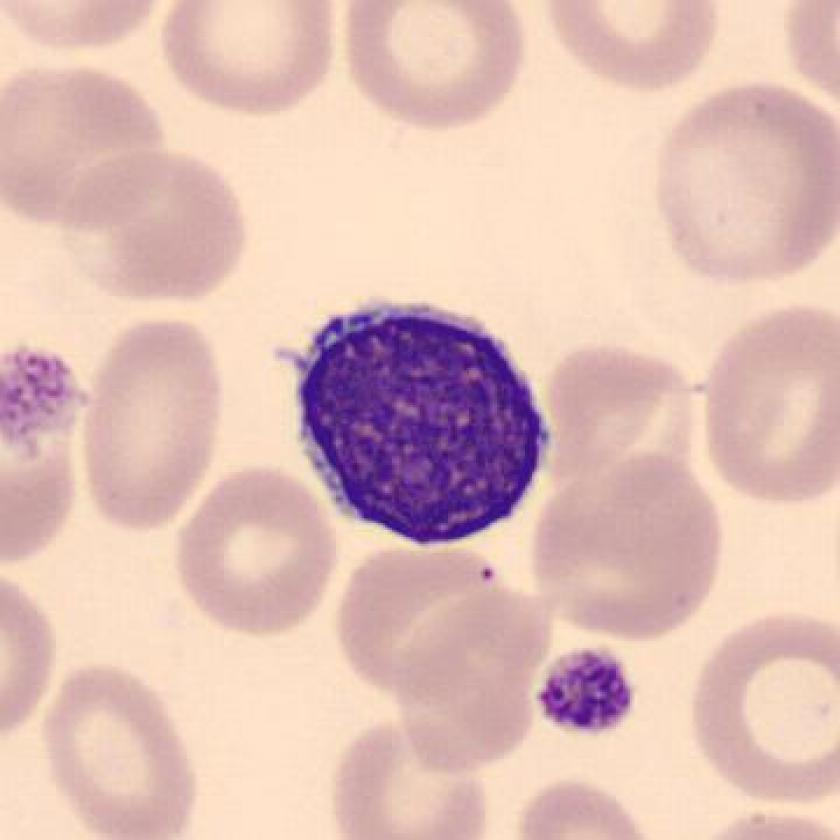lymphocyte: (269, 290, 566, 561)
